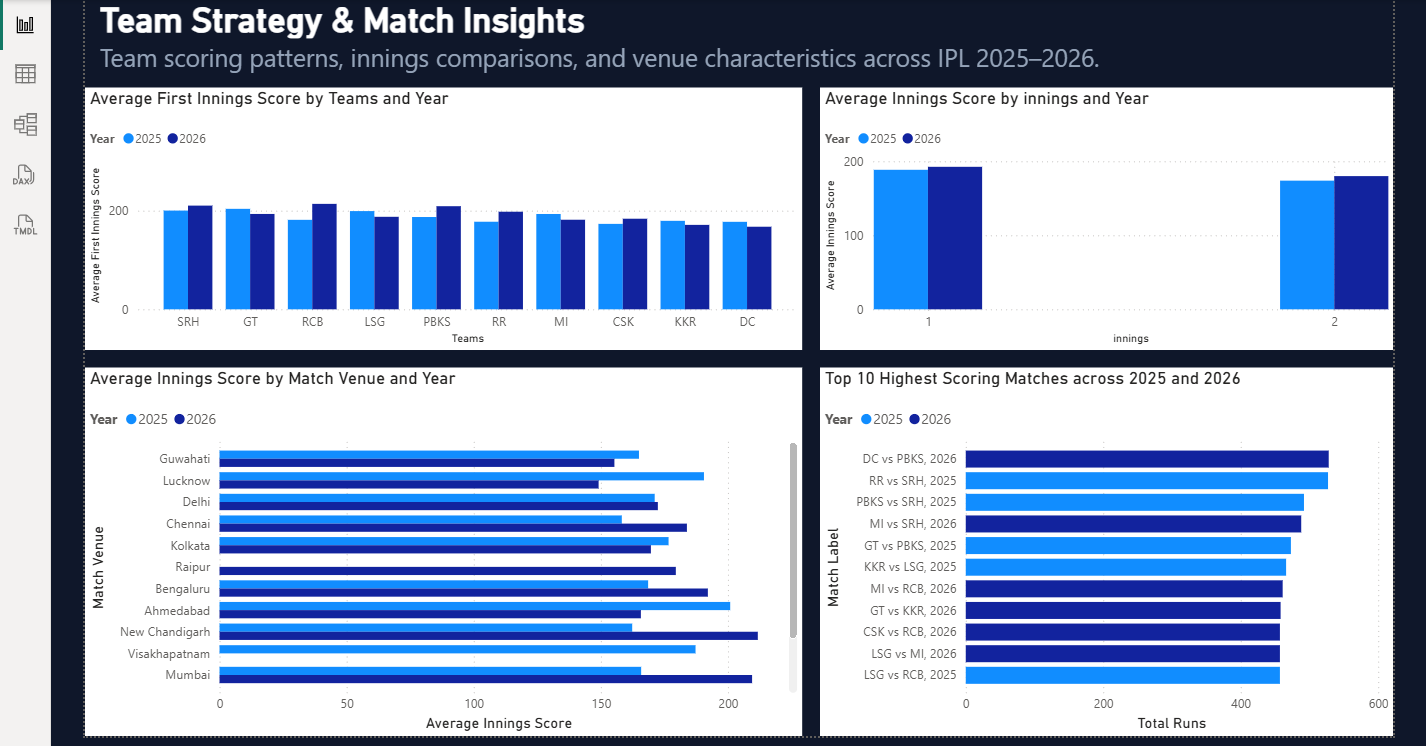

This screenshot's page, from the dashboard's own definition file:
{"tool":"powerbi","page":{"name":"Page 4","canvas":[1280,720],"ordinal":3},"visuals":[{"type":"textbox","title":"Team Strategy & Match Insights","box":[9.8,0,997.8,74.6],"z":0},{"type":"clusteredColumnChart","fields":{"Category":["fact_deliveries.innings"],"Series":["dim_date.Year"],"Y":["KPI Measures.Average Innings Score"]},"box":[719,85.6,561.3,256.8],"z":1000},{"type":"clusteredBarChart","fields":{"Category":["dim_venue.venue"],"Series":["dim_date.Year"],"Y":["KPI Measures.Average Innings Score"]},"box":[0,359.5,701.9,360.7],"z":2000},{"type":"clusteredColumnChart","fields":{"Category":["dim_batting_teams.Teams"],"Series":["dim_date.Year"],"Y":["KPI Measures.Average First Innings Score"]},"box":[0,85.6,701.9,256.8],"z":3000},{"type":"barChart","title":"Top 10 Highest Scoring Matches across 2025 and 2026","fields":{"Category":["dim_matches.Match Label"],"Series":["dim_date.Year"],"Y":["KPI Measures.Total Runs"]},"box":[719,359.5,561.3,360.7],"z":4000}]}

Visuals, with their boxes in screenshot pixels (x1, y1, x2, y2):
"Team Strategy & Match Insights" textbox: bbox=[92, 0, 1112, 73]
clusteredColumnChart - fact_deliveries.innings x dim_date.Year: bbox=[817, 84, 1391, 346]
clusteredBarChart - dim_venue.venue x dim_date.Year: bbox=[82, 364, 799, 733]
clusteredColumnChart - dim_batting_teams.Teams x dim_date.Year: bbox=[82, 84, 799, 346]
"Top 10 Highest Scoring Matches across 2025 and 2026" barChart: bbox=[817, 364, 1391, 733]
